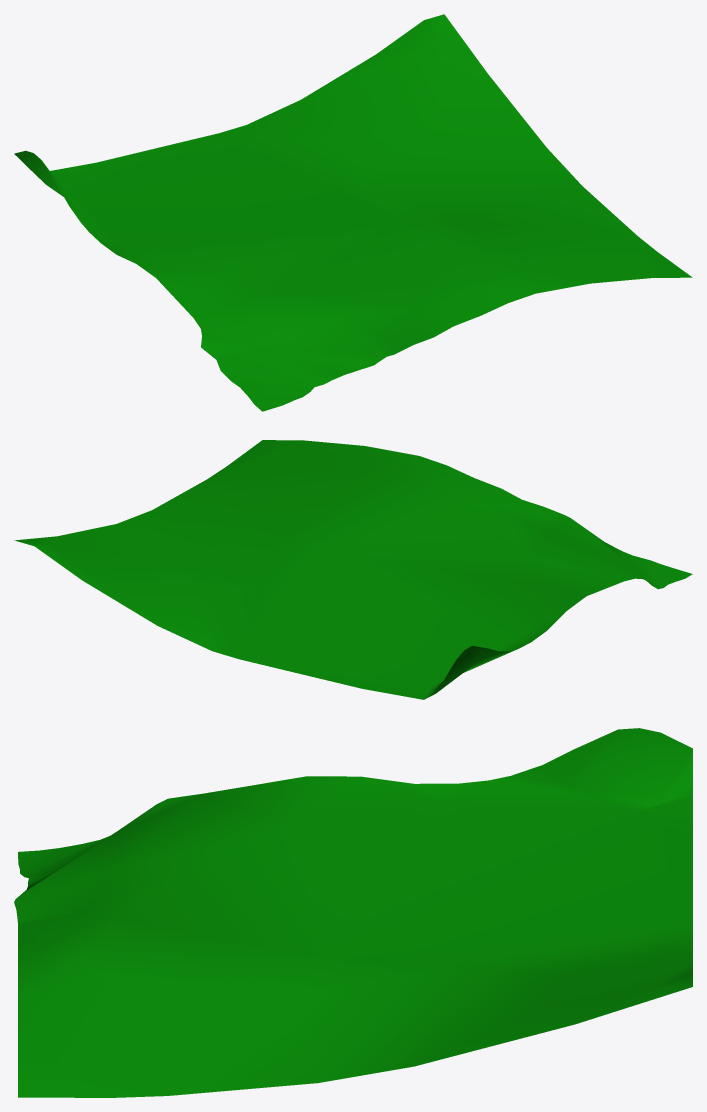
The model's file is FantasticalDelights_Terrain_4D.fbx.
3 views of the same model, one above another, from view 1: azimuth 30°, elevation 25°; view 2: azimuth 150°, elevation 25°; view 3: azimuth 270°, elevation 25° (orthographic). The views are drawn at different scales.
Parts seen in each view (by area): view 1: TERR_4D_Lod2; view 2: TERR_4D_Lod2; view 3: TERR_4D_Lod2.
Part boxes in pixels (x1,y1,x2,y2): TERR_4D_Lod2: (14, 14, 692, 411); TERR_4D_Lod2: (14, 440, 692, 699); TERR_4D_Lod2: (14, 728, 692, 1097).
Size of the model in its own units: 64.56 by 15.47 by 63.38.
